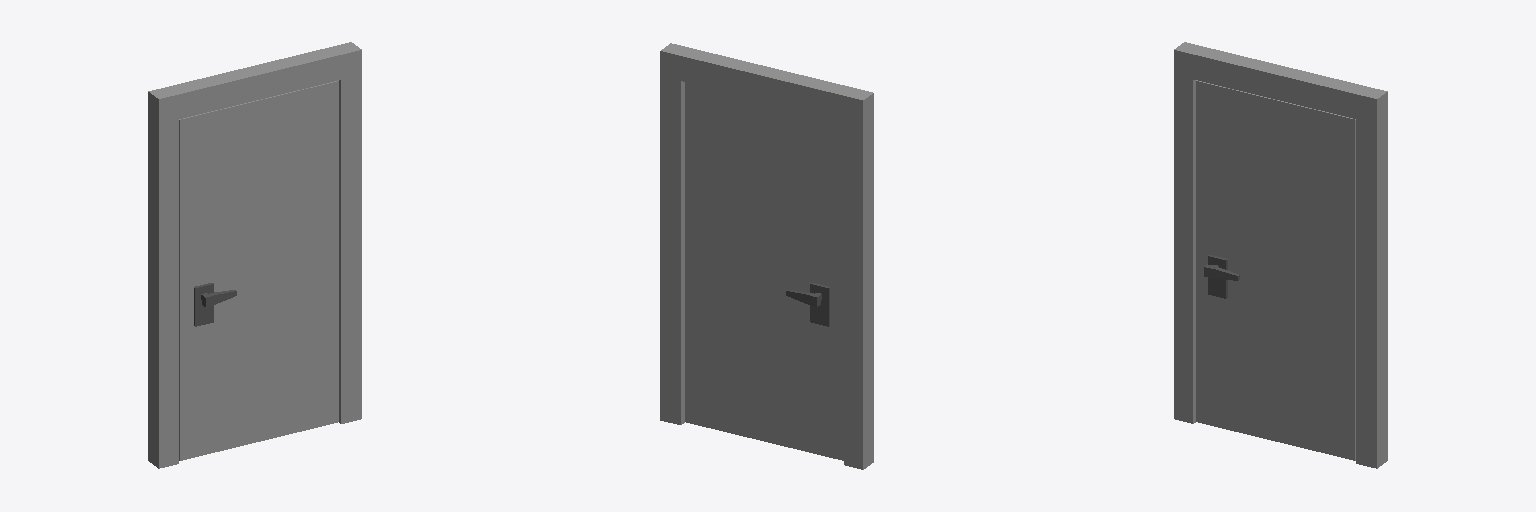
Rendered from Door-Single.obj.
The picture shows the model from 3 angles: view 1: azimuth 30°, elevation 25°; view 2: azimuth 150°, elevation 25°; view 3: azimuth 330°, elevation 25°; orthographic projection.
Parts seen in each view (by area): view 1: Cube.148_Cube.043, Cube.149_Cube.045, Cube.150_Cube.167; view 2: Cube.148_Cube.043, Cube.149_Cube.045, Cube.150_Cube.167; view 3: Cube.148_Cube.043, Cube.149_Cube.045, Cube.150_Cube.167.
Part boxes in pixels (x1,y1,x2,y2): Cube.148_Cube.043: (179,80,338,460); Cube.149_Cube.045: (148,42,361,468); Cube.150_Cube.167: (194,283,213,326); Cube.148_Cube.043: (685,82,843,460); Cube.149_Cube.045: (660,43,873,469); Cube.150_Cube.167: (810,282,829,326); Cube.148_Cube.043: (1196,80,1355,460); Cube.149_Cube.045: (1174,42,1387,468); Cube.150_Cube.167: (1208,255,1227,298).
Bounding box in the file's own units: 2.55 × 4.42 × 0.569.